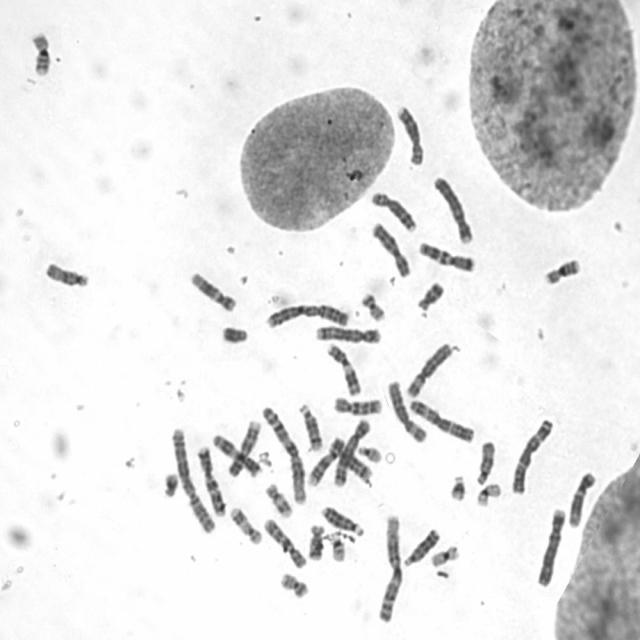A1: (262, 404, 306, 506), (376, 514, 404, 622)
A2: (171, 427, 216, 534), (264, 303, 350, 331)
A3: (510, 416, 554, 495), (408, 400, 475, 444)
B4: (432, 176, 473, 245), (536, 507, 566, 589)
B5: (333, 419, 371, 488), (314, 325, 382, 345)
C10: (260, 517, 308, 570), (333, 393, 383, 416)
C11: (211, 433, 262, 477), (324, 342, 362, 396)
C12: (189, 272, 238, 314), (568, 471, 596, 530)
C6: (388, 379, 429, 444), (406, 341, 452, 398)
C7: (196, 444, 228, 519), (418, 240, 476, 273)
C8: (369, 192, 416, 233), (397, 105, 424, 167)
C9: (227, 419, 262, 479), (306, 436, 344, 488)
D13: (402, 527, 441, 569), (319, 503, 365, 538)
D14: (335, 448, 375, 484), (297, 403, 323, 452)
D15: (43, 261, 92, 288), (475, 441, 496, 486)
E16: (28, 30, 56, 76), (543, 258, 582, 286)
E17: (230, 506, 264, 546), (264, 481, 294, 520)
E18: (416, 280, 444, 311), (306, 523, 326, 561)
F19: (429, 544, 461, 569), (474, 482, 502, 508)
F20: (360, 291, 386, 324), (280, 573, 312, 597)
G21: (447, 475, 467, 503), (163, 472, 178, 500)
G22: (329, 534, 347, 563), (357, 444, 382, 464)
X: (372, 222, 411, 278)
Y: (220, 325, 250, 346)
